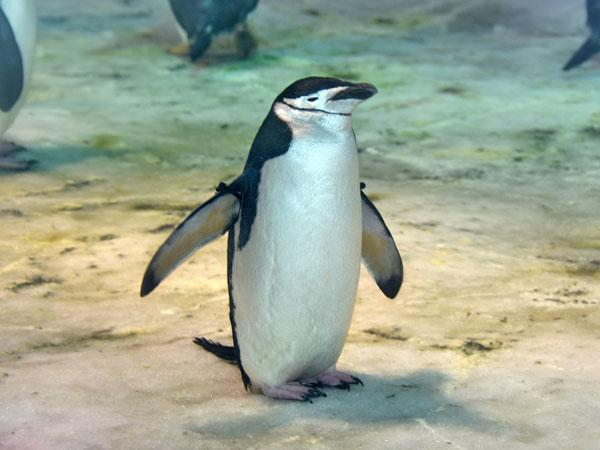chinstrap: (142, 64, 400, 402)
